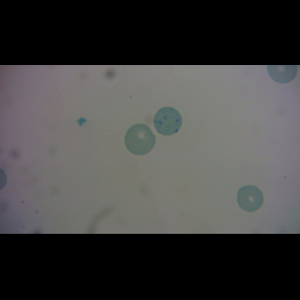erythrocyte: (124, 123, 156, 156), (235, 185, 264, 213)
punctate reticulocyte: (153, 106, 182, 136)
